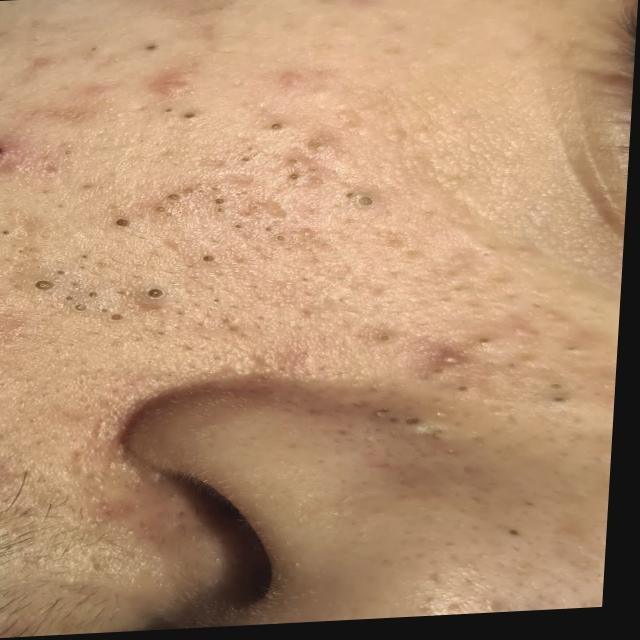dark spot: (140, 284, 176, 305), (107, 308, 136, 329), (356, 194, 383, 215), (180, 108, 207, 128), (139, 40, 171, 56), (29, 277, 59, 294), (263, 120, 291, 138), (106, 214, 134, 231), (196, 250, 224, 267), (408, 419, 436, 434), (160, 191, 187, 204), (551, 398, 575, 411)
